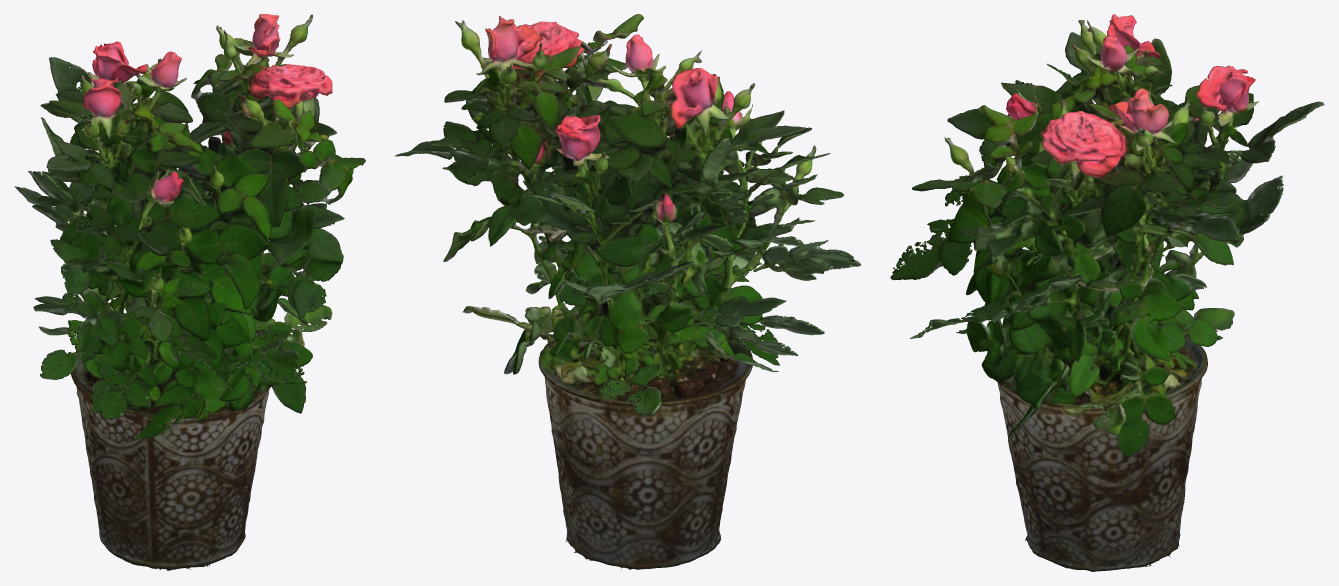
Rendered from rose_in_a_pot.glb.
3 renders of one model, left to right at view 1: azimuth 30°, elevation 25°; view 2: azimuth 150°, elevation 25°; view 3: azimuth 270°, elevation 25°, orthographic. The views are drawn at different scales.
Parts seen in each view (by area): view 1: Object_3, Object_7, Object_2, Object_6, Object_4, Object_8, Object_5; view 2: Object_2, Object_3, Object_5, Object_4, Object_6, Object_7, Object_8; view 3: Object_7, Object_3, Object_2, Object_6, Object_4, Object_8, Object_5.
Boxes of the visible parts, bbox=[...] form: Object_3: bbox=[36, 14, 365, 438]; Object_7: bbox=[48, 38, 343, 440]; Object_2: bbox=[73, 381, 269, 570]; Object_6: bbox=[14, 41, 294, 413]; Object_4: bbox=[33, 45, 274, 391]; Object_8: bbox=[101, 25, 342, 435]; Object_5: bbox=[35, 87, 201, 370]; Object_2: bbox=[544, 347, 751, 569]; Object_3: bbox=[409, 14, 858, 415]; Object_5: bbox=[506, 125, 806, 404]; Object_4: bbox=[488, 105, 807, 409]; Object_6: bbox=[445, 56, 827, 415]; Object_7: bbox=[419, 34, 860, 386]; Object_8: bbox=[394, 38, 835, 374]; Object_7: bbox=[947, 14, 1242, 449]; Object_3: bbox=[890, 15, 1323, 435]; Object_2: bbox=[996, 378, 1201, 571]; Object_6: bbox=[986, 15, 1324, 409]; Object_4: bbox=[1001, 38, 1298, 398]; Object_8: bbox=[925, 96, 1243, 456]; Object_5: bbox=[1068, 67, 1281, 385].
Bounding box in the file's own units: 14.21 × 20.3 × 15.76.
Materials: 2 (2 with a texture image).
